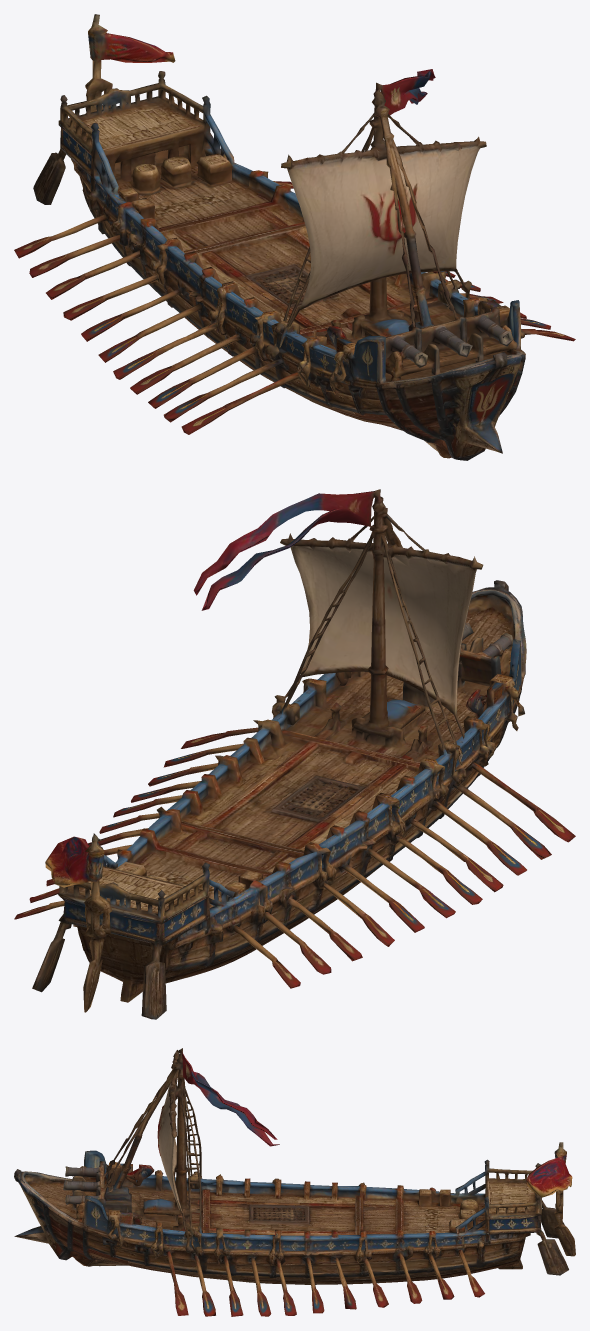
The model's file is osmanli-tuna-saykasi-1550-1600-tripo-v1.glb.
The picture shows the model from 3 angles, top to bottom: view 1: azimuth 30°, elevation 25°; view 2: azimuth 150°, elevation 25°; view 3: azimuth 270°, elevation 25°; orthographic projection. The views are drawn at different scales.
Visible parts, largest first — view 1: tripo_node_9c9dfe8c-0891-4788-9e2f-8d7caf3b11fd; view 2: tripo_node_9c9dfe8c-0891-4788-9e2f-8d7caf3b11fd; view 3: tripo_node_9c9dfe8c-0891-4788-9e2f-8d7caf3b11fd.
Part boxes in pixels (x1=…): tripo_node_9c9dfe8c-0891-4788-9e2f-8d7caf3b11fd: x1=14, y1=14, x2=575, y2=460; tripo_node_9c9dfe8c-0891-4788-9e2f-8d7caf3b11fd: x1=14, y1=489, x2=575, y2=1019; tripo_node_9c9dfe8c-0891-4788-9e2f-8d7caf3b11fd: x1=14, y1=1048, x2=575, y2=1316.
Size of the model in its own units: 0.5358 by 0.4323 by 1.
Materials: 1 (1 with a texture image).
